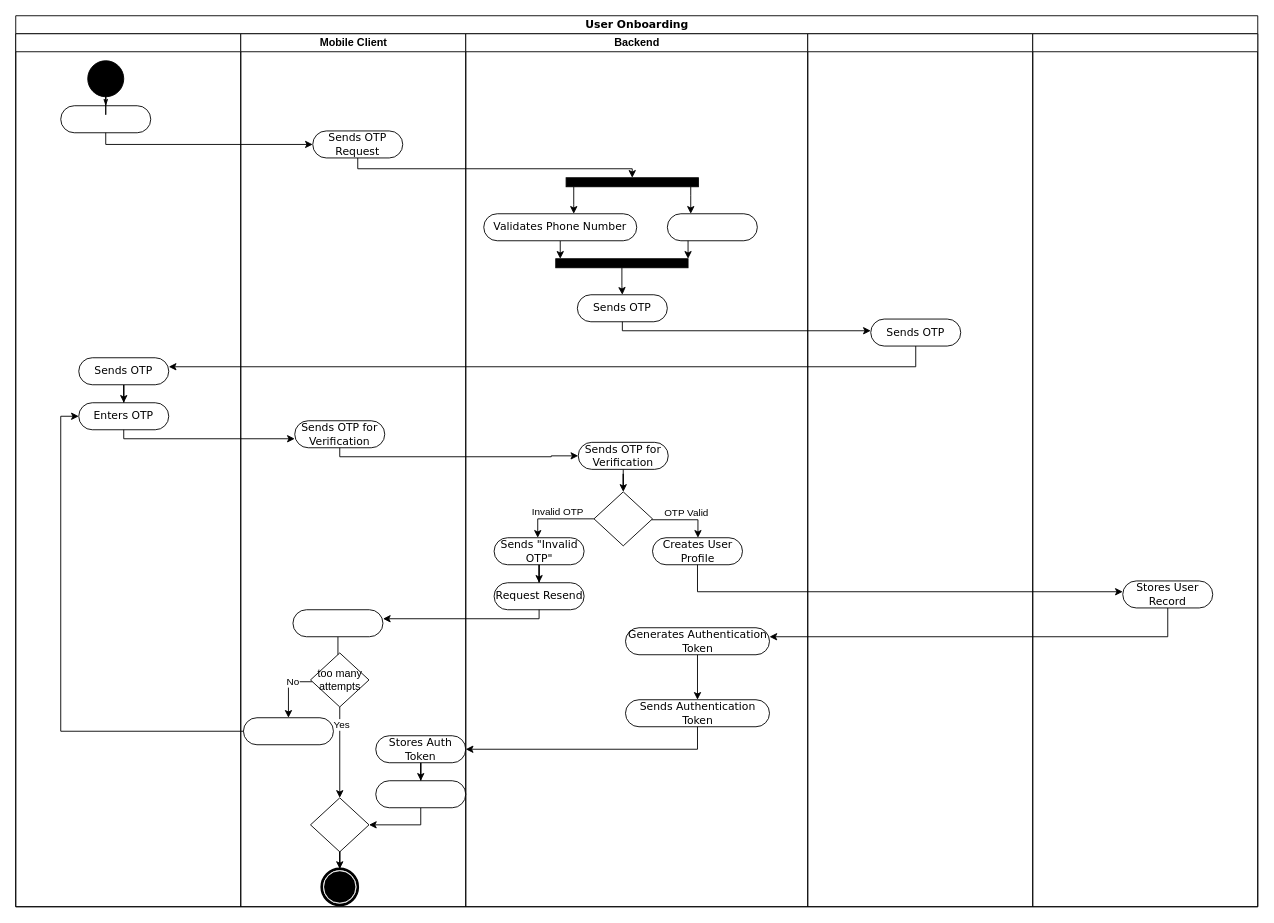
Some shapes in this 1274 by 923 pixel diagram are drawn without their labels. The box of each missing label's shape, as (x1, y1, x2, y2) in pixels:
Database: (1032, 33, 1258, 907)
Displays Error: (292, 609, 383, 637)
Enters Phone Number: (60, 105, 151, 133)
Generates OTP: (666, 213, 757, 241)
Is OTP Valid: (593, 491, 652, 546)
Logs In User: (375, 780, 466, 808)
Resend Option: (243, 717, 333, 745)
SMS Gateway: (807, 33, 1033, 907)
User: (15, 33, 241, 907)
